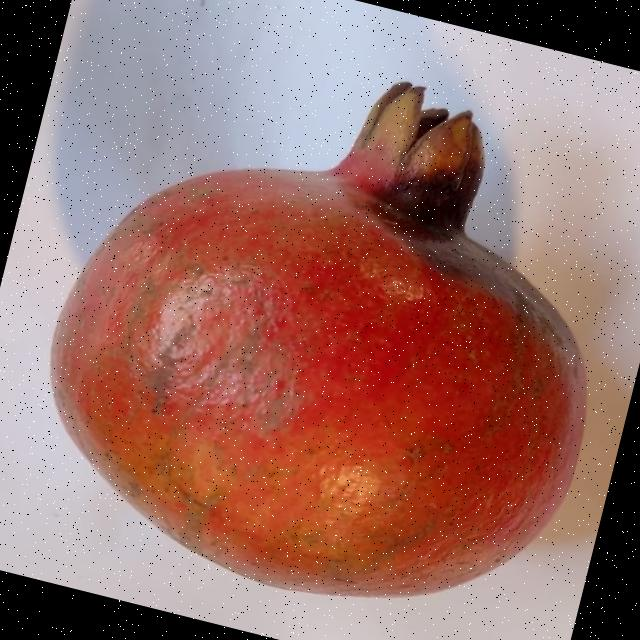overripe: (1, 7, 640, 640)
